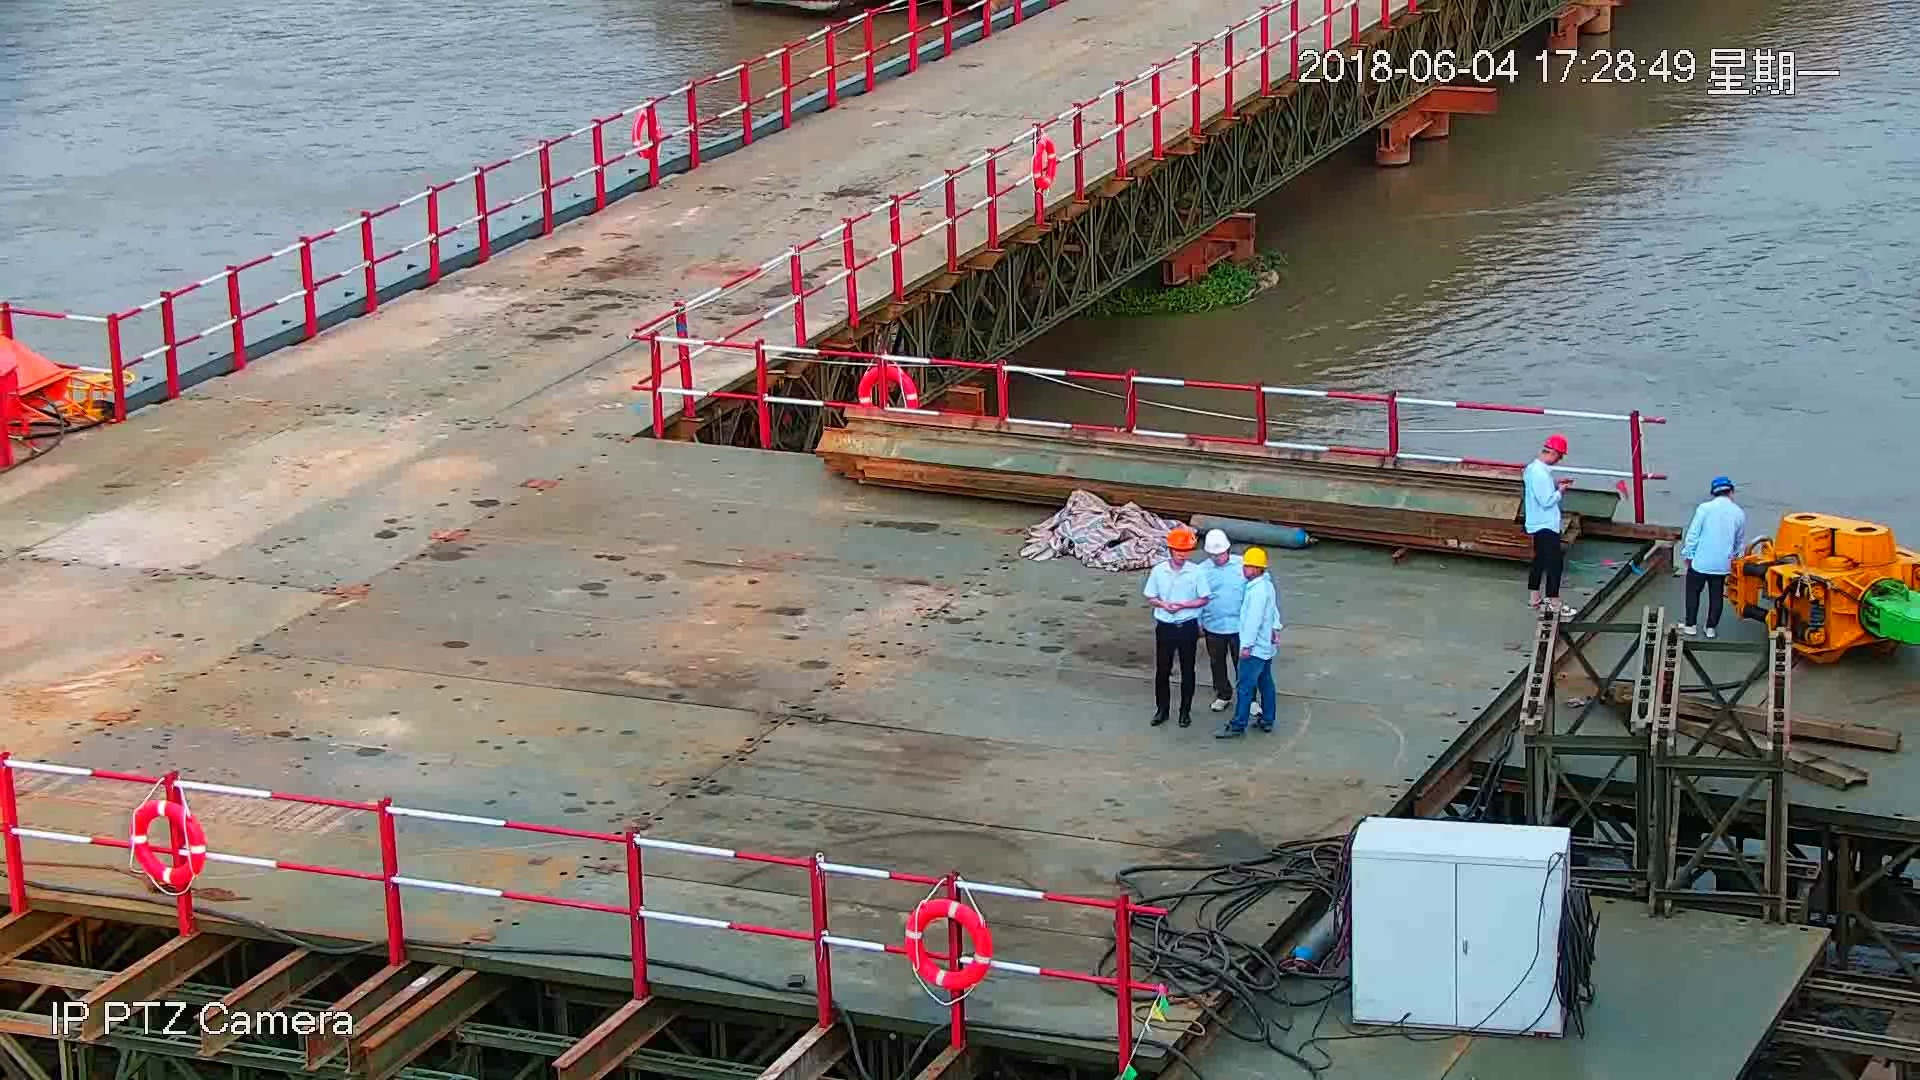blue: (1706, 473, 1735, 500)
red: (1538, 433, 1571, 467)
white: (1201, 527, 1232, 564)
yellow: (1160, 530, 1196, 564), (1240, 545, 1269, 579)
